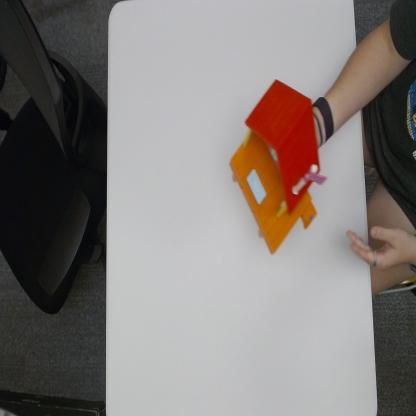Arm: (327, 16, 398, 122)
Hand: (346, 221, 412, 269)
House: (232, 79, 322, 256)
